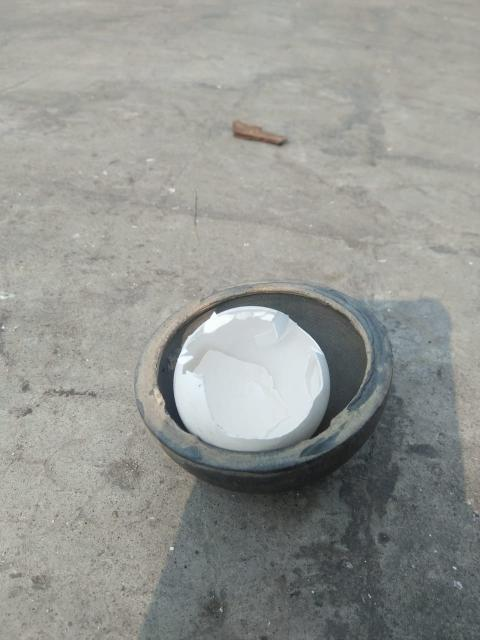Roto: (172, 304, 330, 452)
